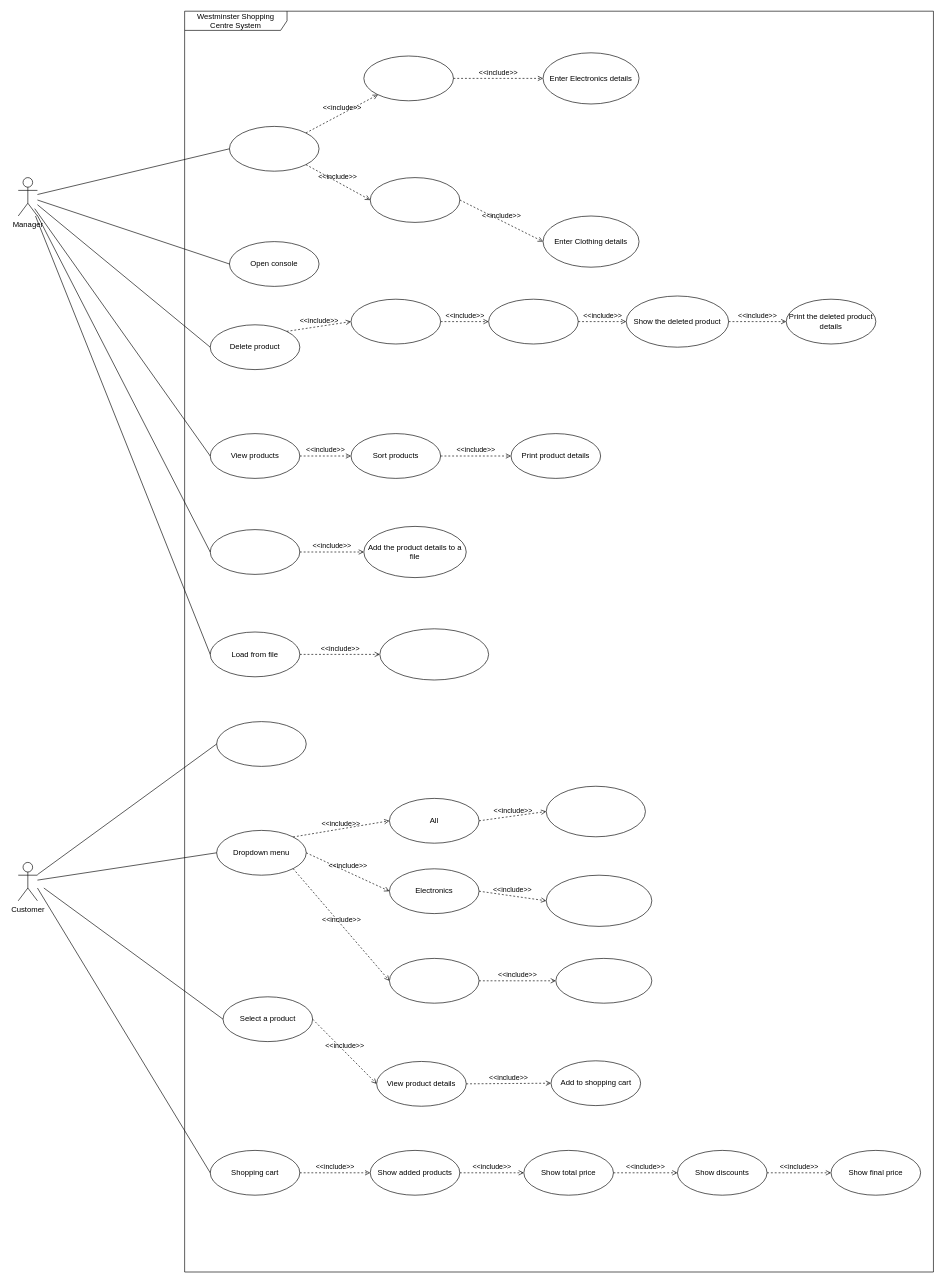
Some shapes in this 945 by 1283 pixel diagram are drawn without their labels. The shapes that lost their labels are listed below. From the top down, each one's box as (x1, y1, x2, y2) in pixels, then its label:
(363, 55, 453, 101): Add Electronics
(229, 126, 319, 171): Add product
(370, 177, 460, 222): Add Clothing
(350, 299, 441, 344): Enter the product id
(488, 299, 578, 344): Delete product details
(210, 529, 300, 574): Save to file
(379, 628, 489, 680): Load product details from the file
(216, 721, 306, 766): Open GUI
(546, 786, 645, 837): View all the available products
(546, 875, 652, 926): View available electronics
(389, 958, 479, 1003): Clothing
(555, 958, 652, 1003): View available clothing
